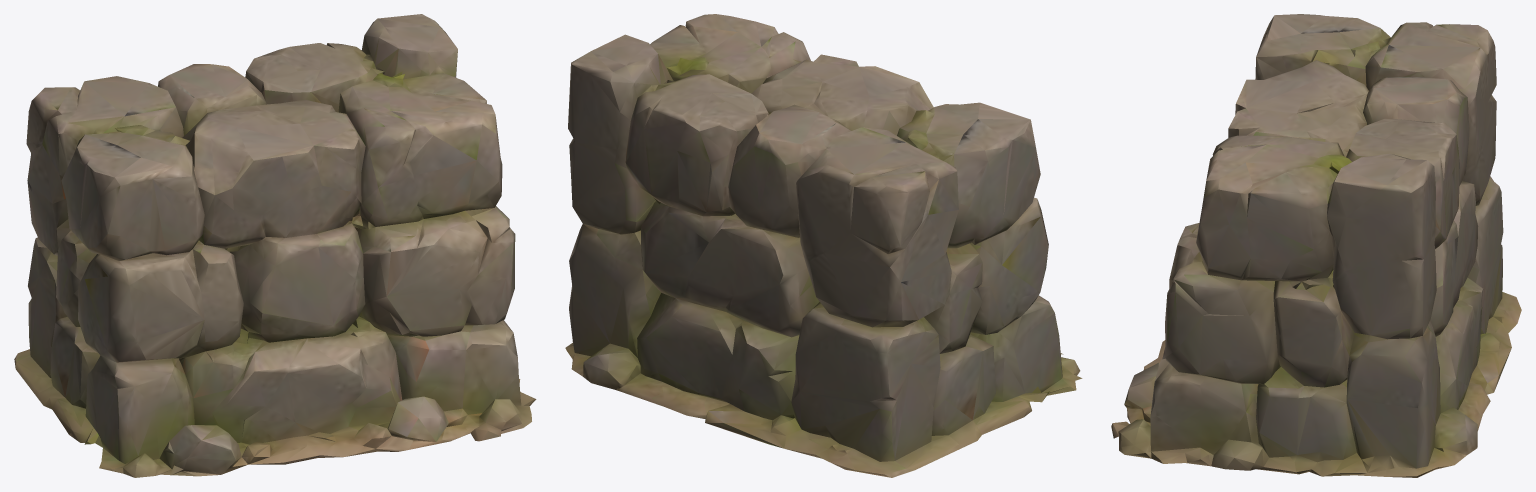
The model's file is muro_ruina.glb.
3 views of the same model, side by side, from view 1: azimuth 30°, elevation 25°; view 2: azimuth 150°, elevation 25°; view 3: azimuth 270°, elevation 25° (orthographic).
Visible parts, largest first — view 1: muro_ruina_malla; view 2: muro_ruina_malla; view 3: muro_ruina_malla.
Boxes of the visible parts, left/top/right/bottom form: muro_ruina_malla: left=14, top=14, right=536, bottom=477; muro_ruina_malla: left=565, top=14, right=1082, bottom=477; muro_ruina_malla: left=1111, top=14, right=1521, bottom=477.
Size of the model in its own units: 0.3958 by 0.2651 by 0.3335.
1 material, 1 textured.
